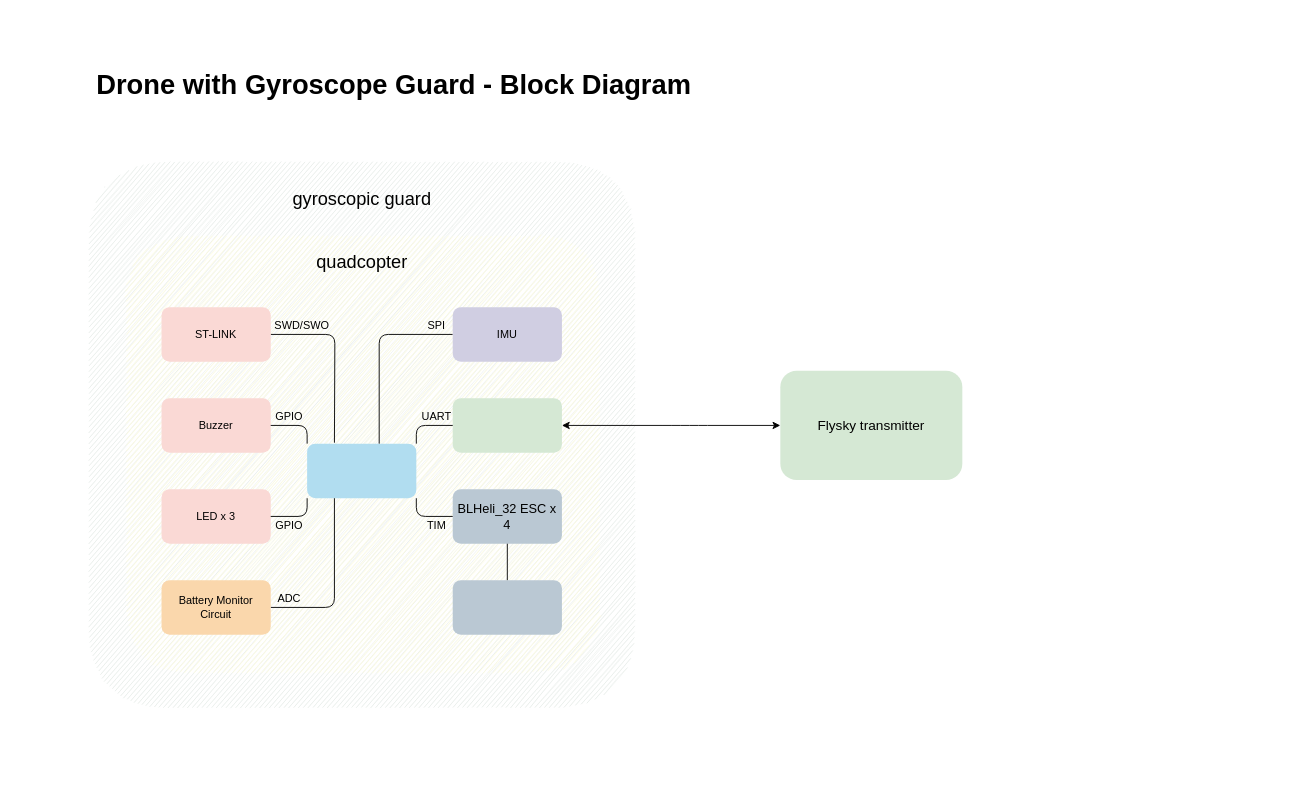
Some shapes in this 1307 by 798 pixel diagram are drawn without their labels. Here are the shapes that lost their labels. From the top down, the centre of each, then its label:
At point 506,425: "Flysky receiver".
At point 361,470: "WEACT STMF4CEU6 core board".
At point 506,607: "BLDC x 4".
